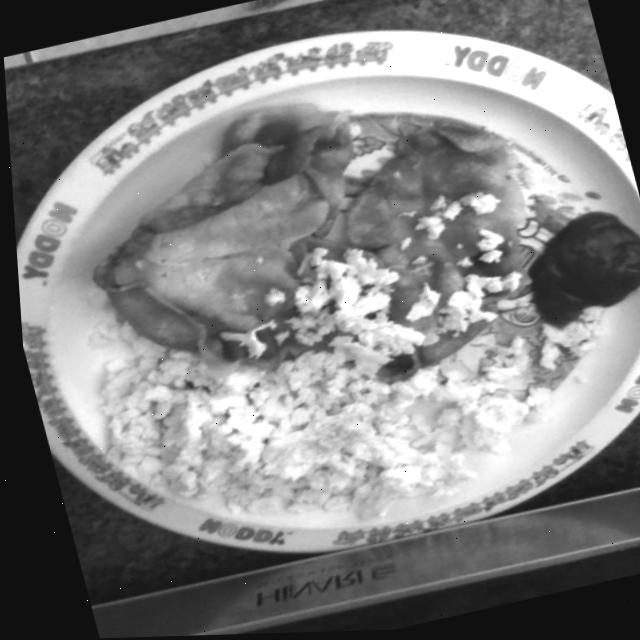鸡蛋料理: (7, 5, 640, 618)
